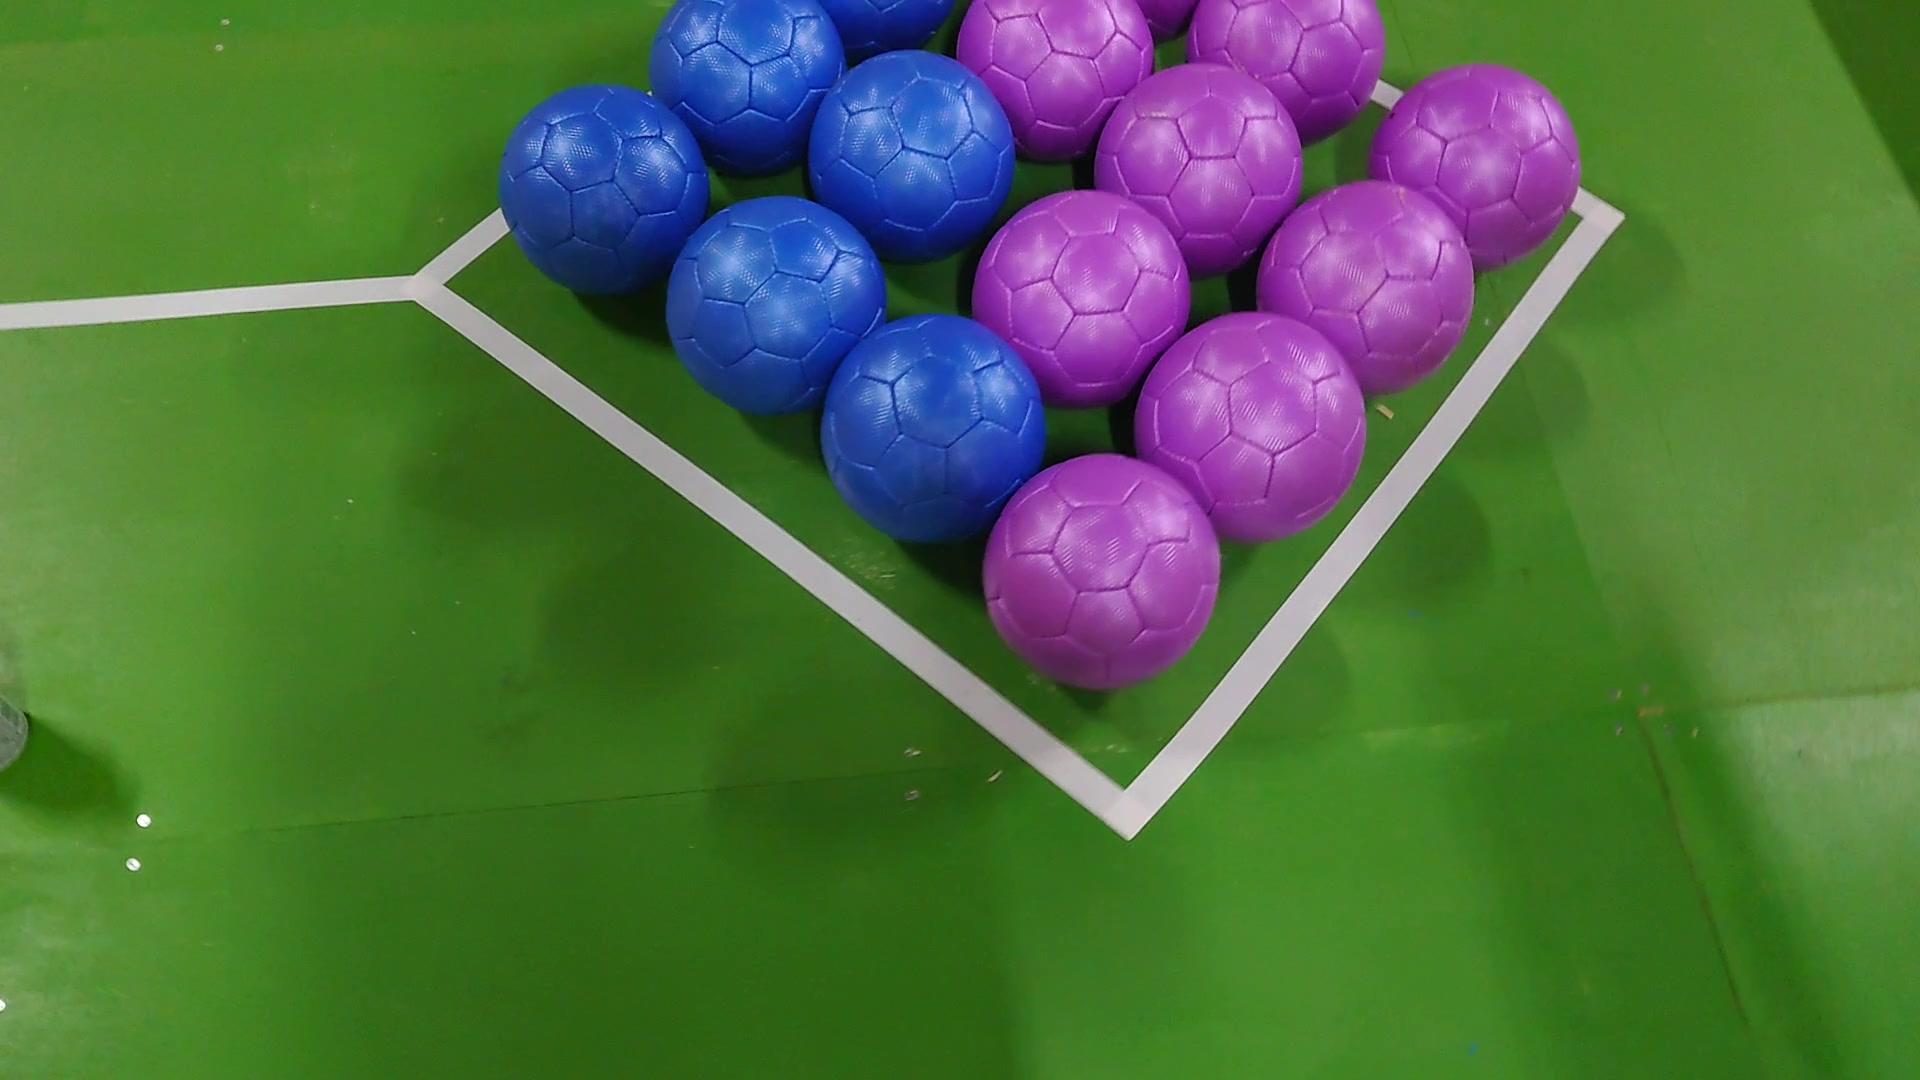blue: (816, 316, 1051, 555), (663, 193, 889, 421), (496, 75, 719, 303), (803, 49, 1022, 261), (650, 0, 856, 160)
purple: (982, 454, 1221, 695), (1130, 310, 1371, 542), (967, 190, 1195, 396), (1257, 179, 1480, 385), (1371, 66, 1584, 261), (1091, 62, 1305, 255), (951, 3, 1159, 153), (1185, 3, 1385, 137)
